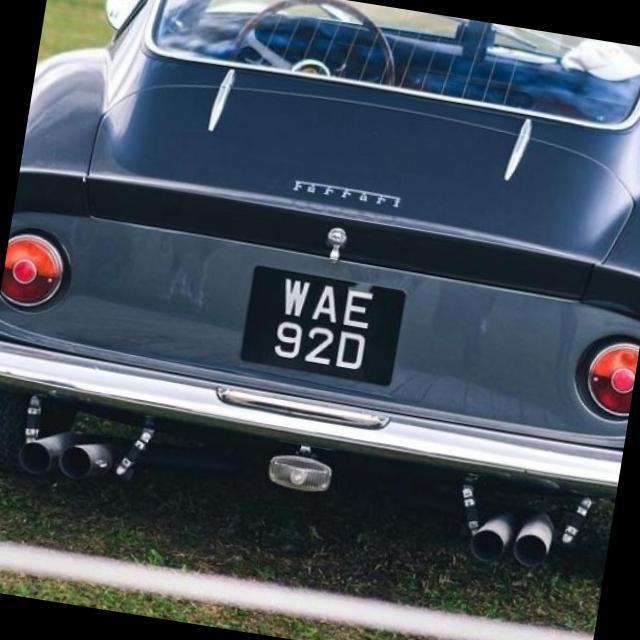license_plate: (230, 256, 418, 396)
